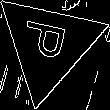P_E: (20, 21, 76, 68)
